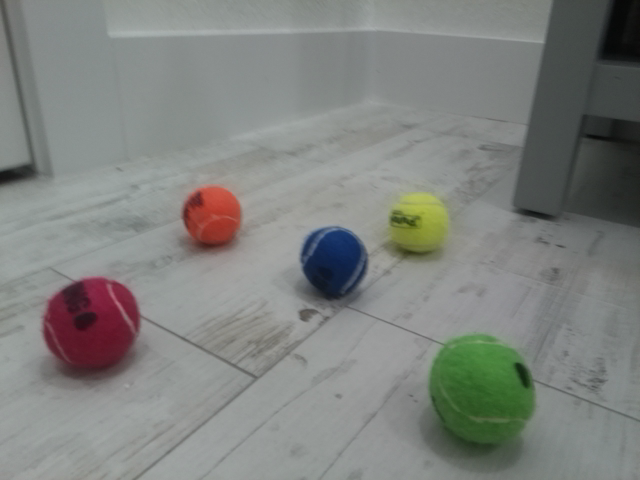blue-ball: (299, 224, 369, 299)
green-ball: (427, 333, 537, 447)
orange-ball: (181, 184, 243, 246)
red-ball: (41, 276, 141, 371)
yellow-ball: (389, 191, 451, 255)
